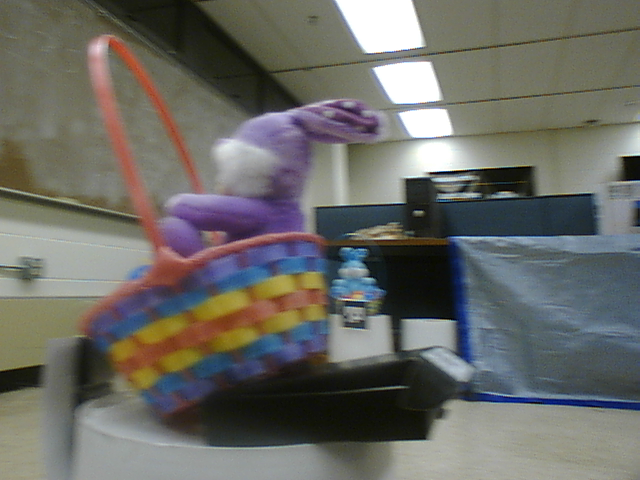bunny: (75, 25, 390, 434), (329, 228, 389, 313)
